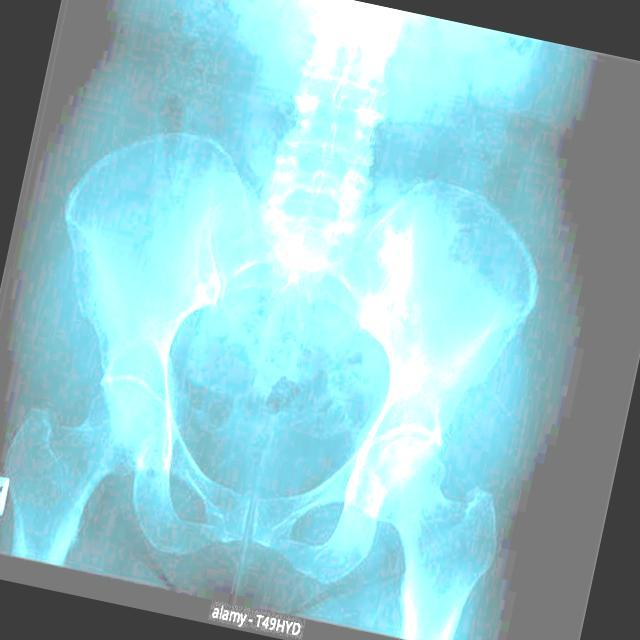spiral fracture: (233, 490, 269, 555)
